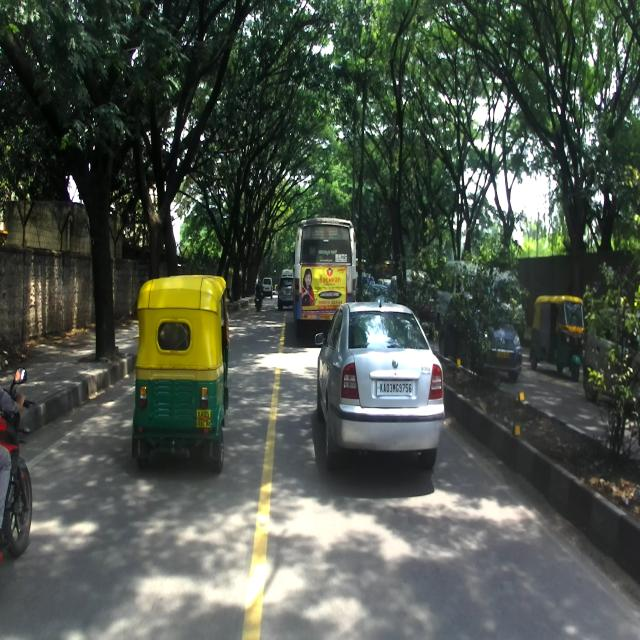auto ahead at: (133, 273, 232, 468)
bus ahead at: (292, 206, 353, 323)
car ahead at: (317, 297, 452, 461)
tree ahead at: (81, 135, 120, 357)
